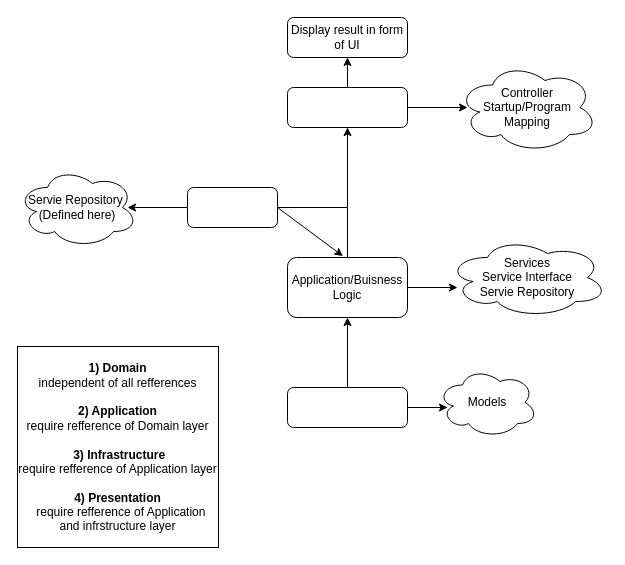
Image size: 625x565. Some labels were removed from this diagram. Each missing label, with the box of its shape:
Domain: (286, 386, 408, 428)
Infrastructure: (186, 186, 278, 228)
Presentation: (286, 86, 408, 128)
